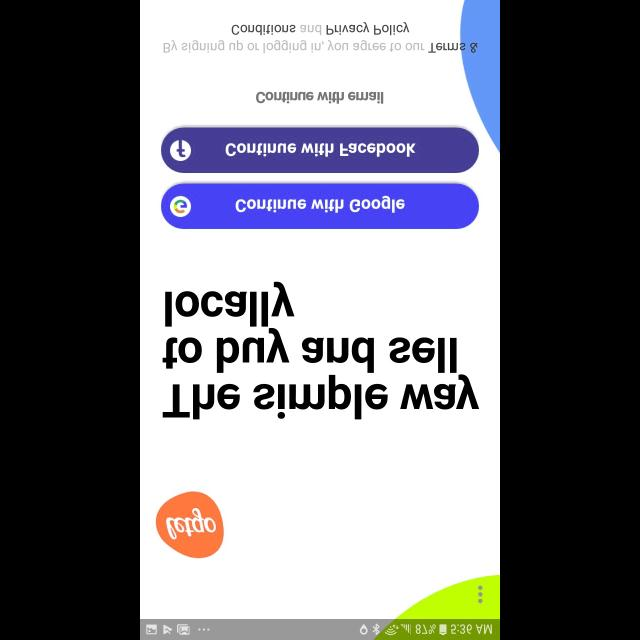icon: (478, 585, 482, 603)
image: (156, 490, 224, 558)
text: (162, 281, 480, 419), (164, 22, 478, 54), (256, 92, 384, 104)
textbutton: (161, 183, 479, 229), (162, 127, 478, 173)
uppertaskbar: (140, 618, 500, 640)
